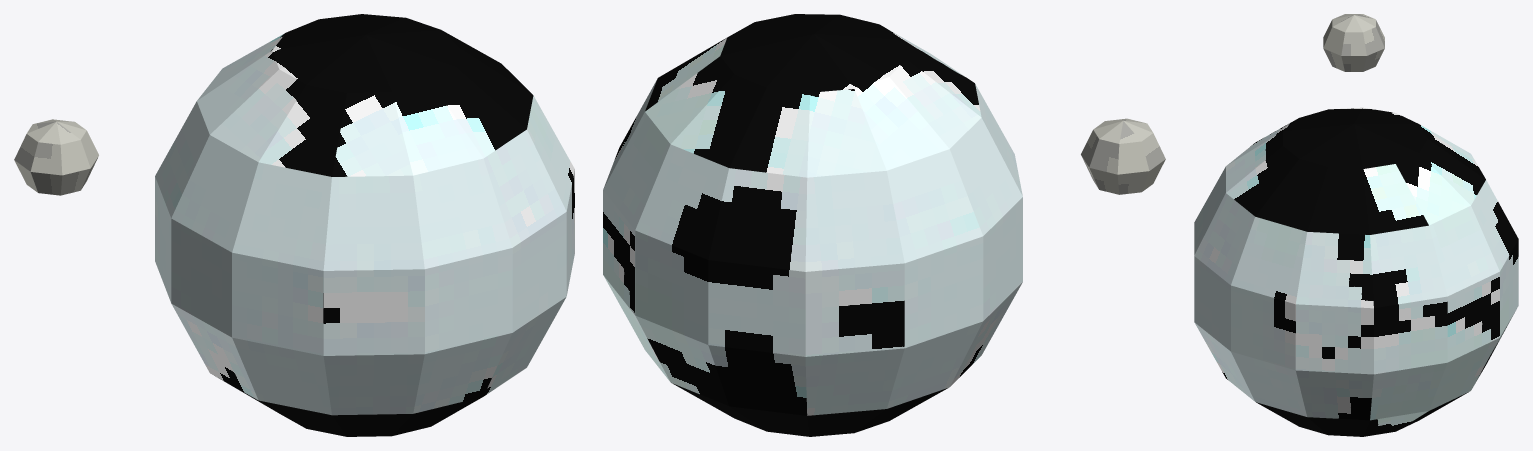
Rendered from earth.fbx.
The picture shows the model from 3 angles, left to right: view 1: azimuth 30°, elevation 25°; view 2: azimuth 150°, elevation 25°; view 3: azimuth 270°, elevation 25°; orthographic projection. The views are drawn at different scales.
Parts seen in each view (by area): view 1: sphere, moon; view 2: sphere, moon; view 3: sphere, moon.
Boxes of the visible parts, x1,y1,x2,y2 form: sphere: [155, 14, 574, 436]; moon: [14, 119, 98, 195]; sphere: [603, 14, 1022, 436]; moon: [1081, 118, 1165, 194]; sphere: [1194, 107, 1518, 436]; moon: [1323, 14, 1384, 71].
Size of the model in its own units: 191 by 133 by 131.
Materials: 3 (3 with a texture image).
